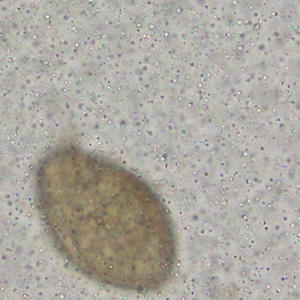Fasciola_hepatica_egg: (38, 148, 179, 288)
